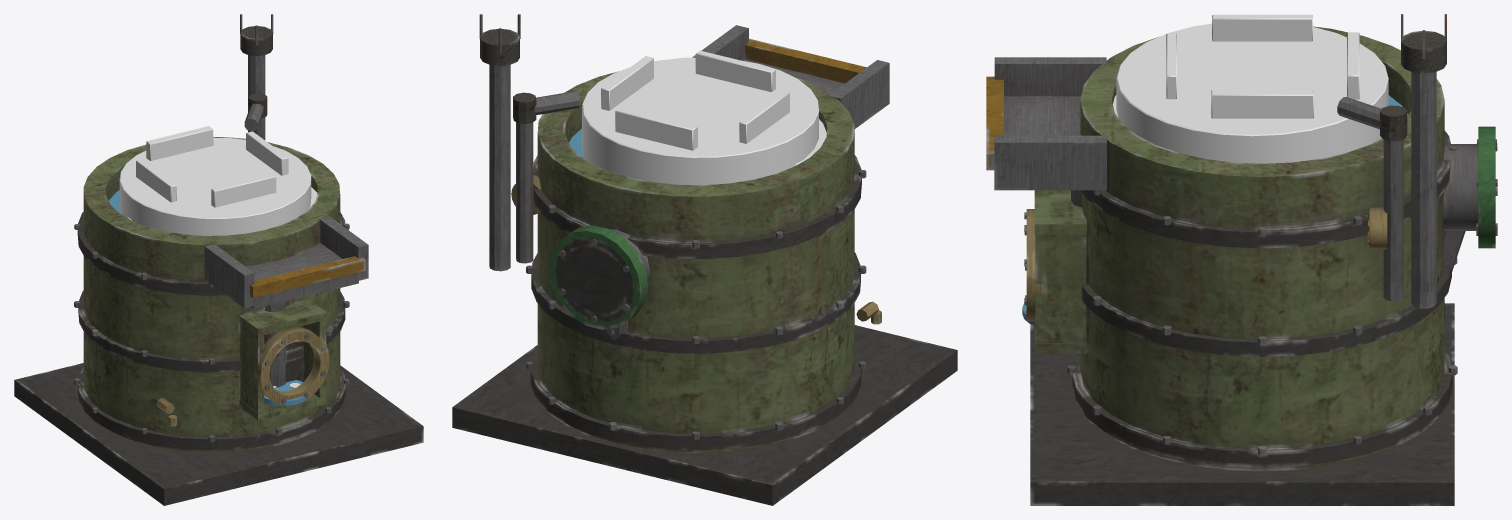
The model's file is feBiodigester_HD.fbx.
The picture shows the model from 3 angles, left to right: view 1: azimuth 30°, elevation 25°; view 2: azimuth 150°, elevation 25°; view 3: azimuth 270°, elevation 25°; orthographic projection. The views are drawn at different scales.
Visible parts, largest first — view 1: feBiodigester_Base, FeSurface_r0.08_Spin_GasHolder; view 2: feBiodigester_Base, FeSurface_r0.08_Spin_GasHolder; view 3: feBiodigester_Base, FeSurface_r0.08_Spin_GasHolder.
Part boxes in pixels (<box>): feBiodigester_Base: <box>14,14,423,505</box>; FeSurface_r0.08_Spin_GasHolder: <box>119,126,317,235</box>; feBiodigester_Base: <box>452,14,957,505</box>; FeSurface_r0.08_Spin_GasHolder: <box>582,50,826,185</box>; feBiodigester_Base: <box>986,14,1497,505</box>; FeSurface_r0.08_Spin_GasHolder: <box>1113,14,1388,163</box>.
Size of the model in its own units: 0.8412 by 1.02 by 1.01.
6 materials, 1 textured.
